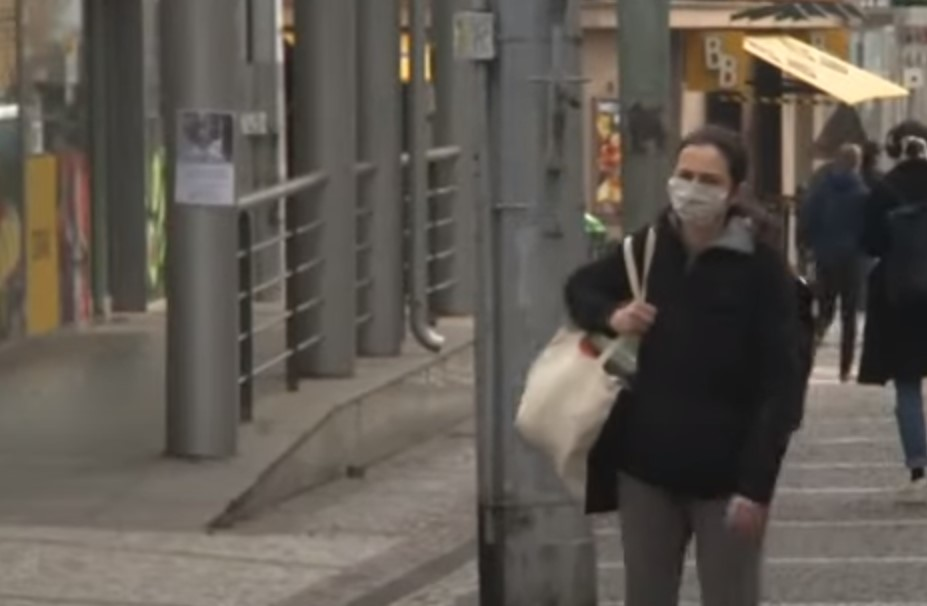face_with_mask: (665, 123, 750, 236)
